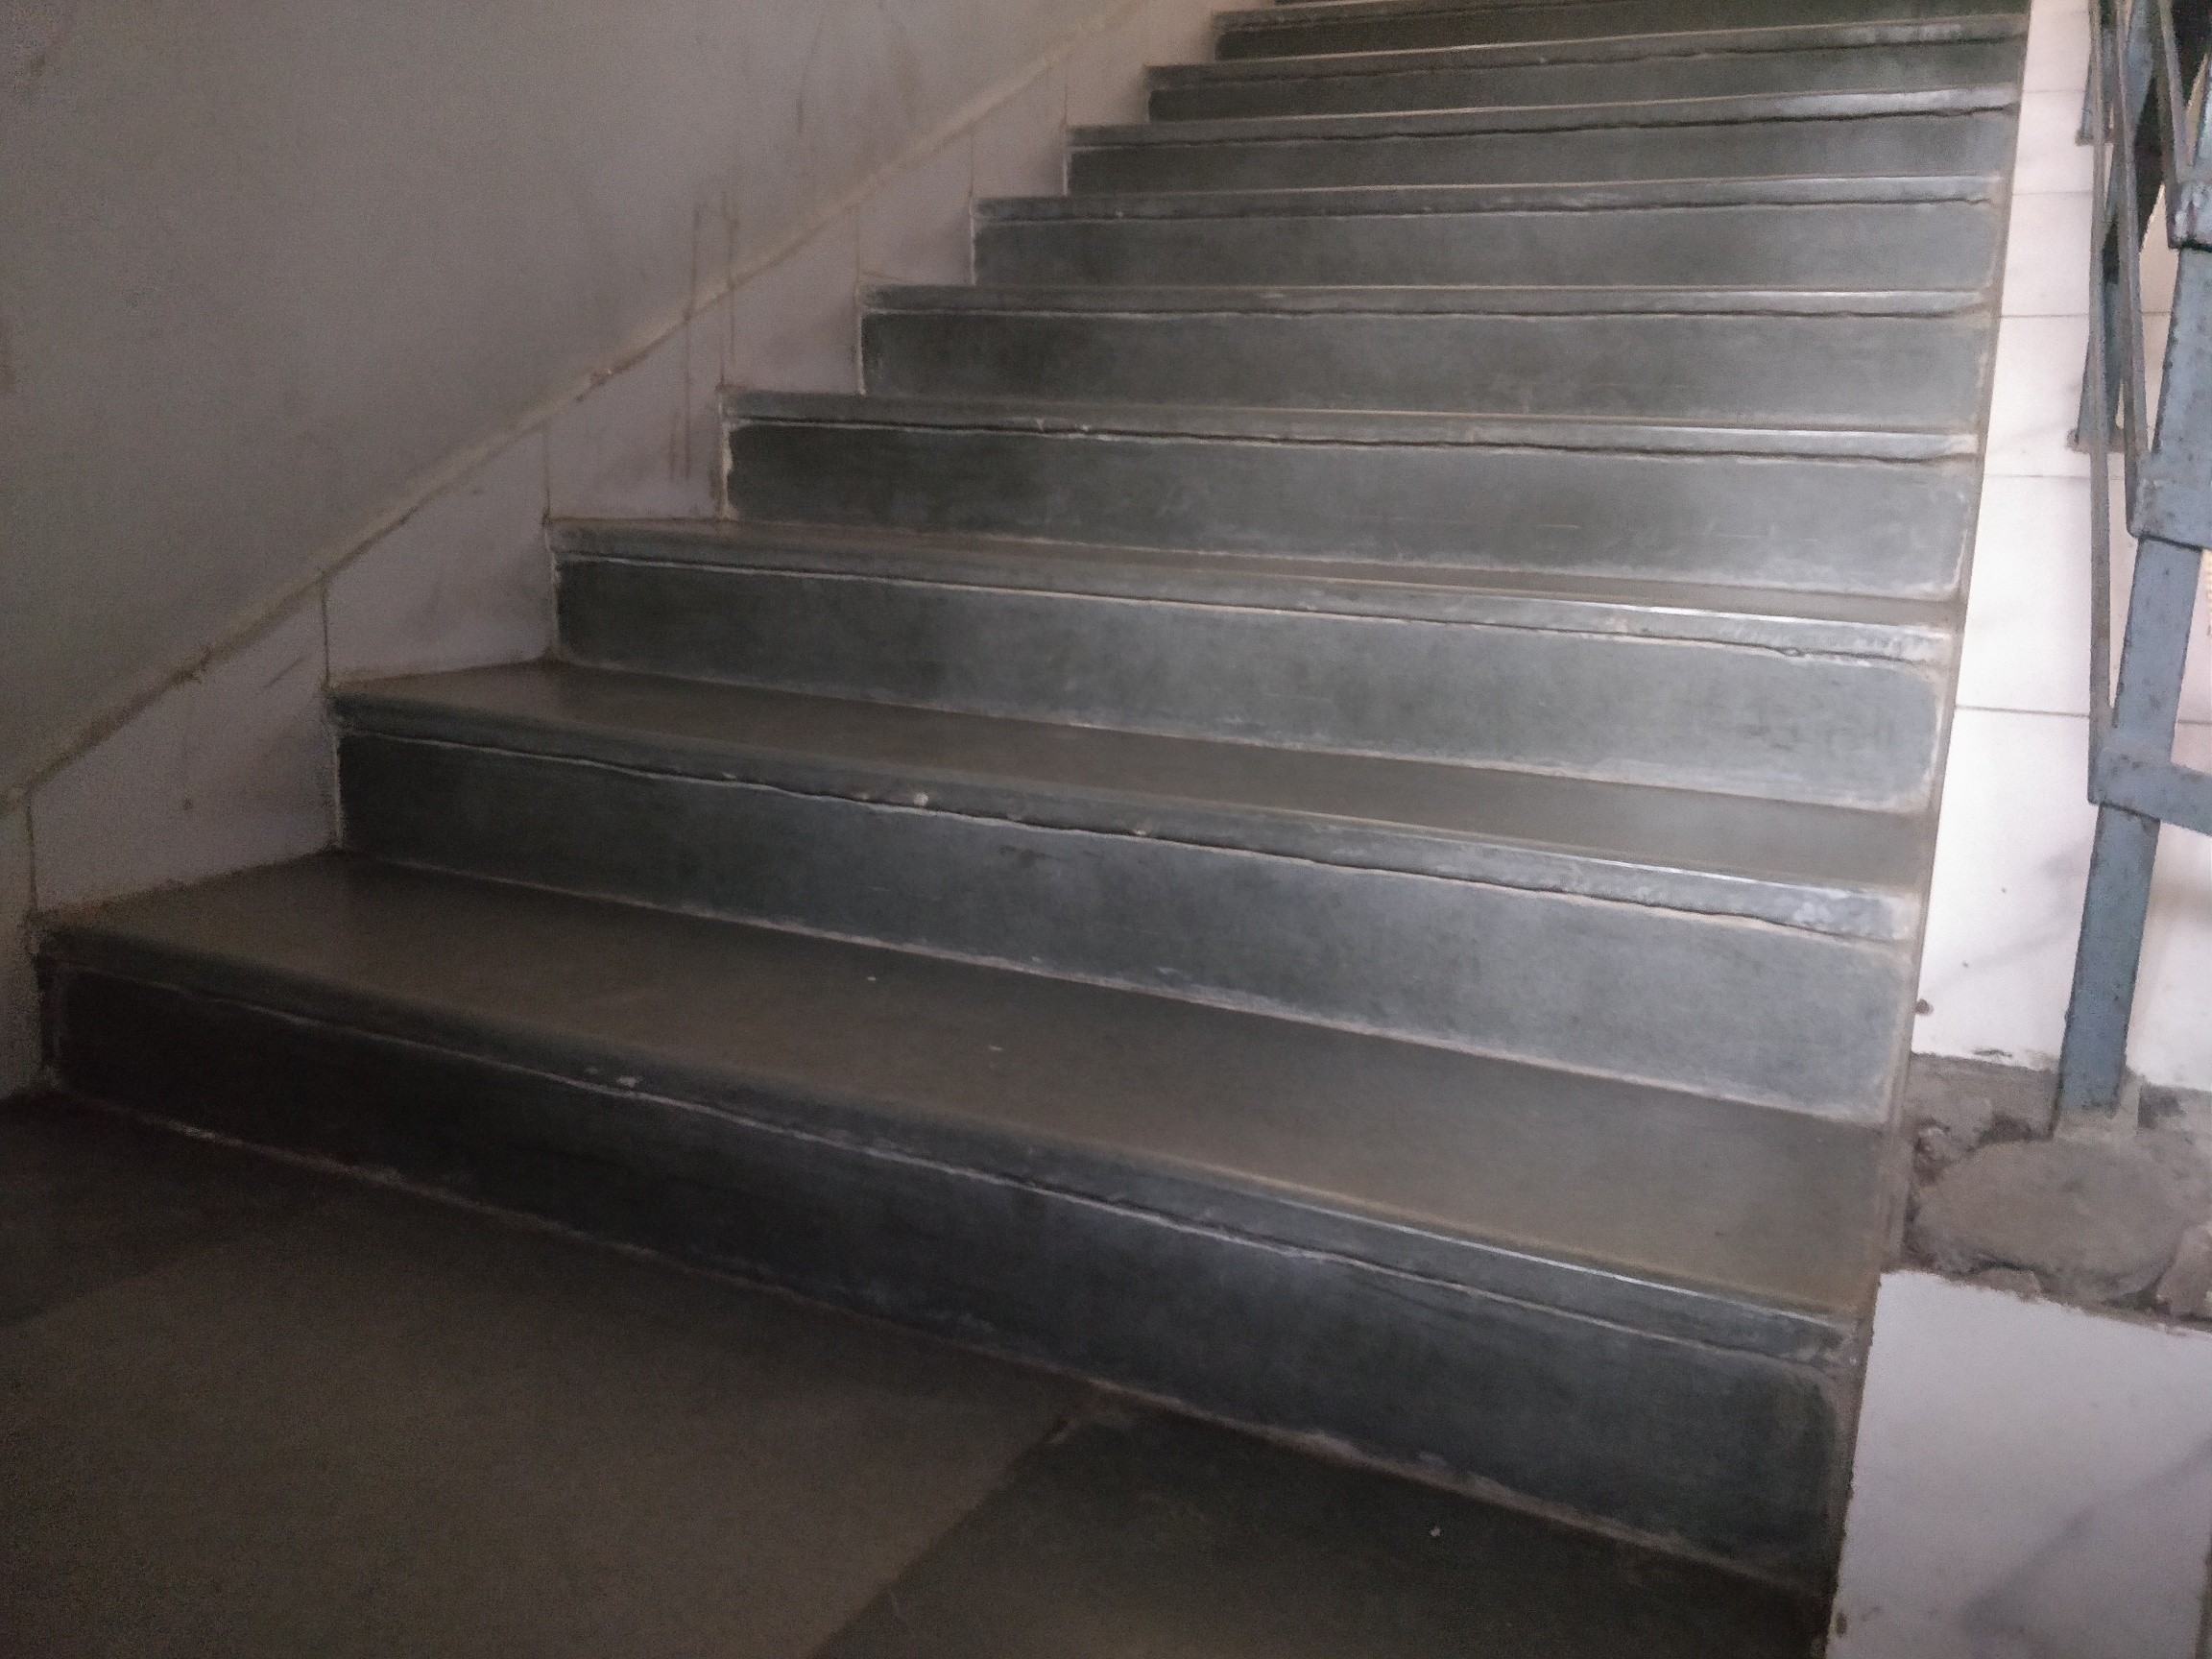stairs_up: (37, 5, 2038, 1272)
